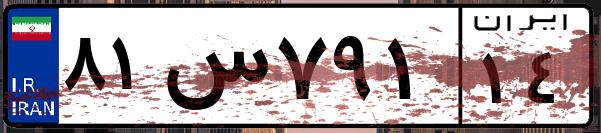1: (385, 28, 445, 110), (475, 38, 525, 113), (110, 28, 158, 98)
4: (525, 38, 570, 115)
7: (270, 28, 330, 110)
8: (57, 26, 110, 100)
9: (330, 28, 385, 110)
س: (158, 20, 270, 120)
